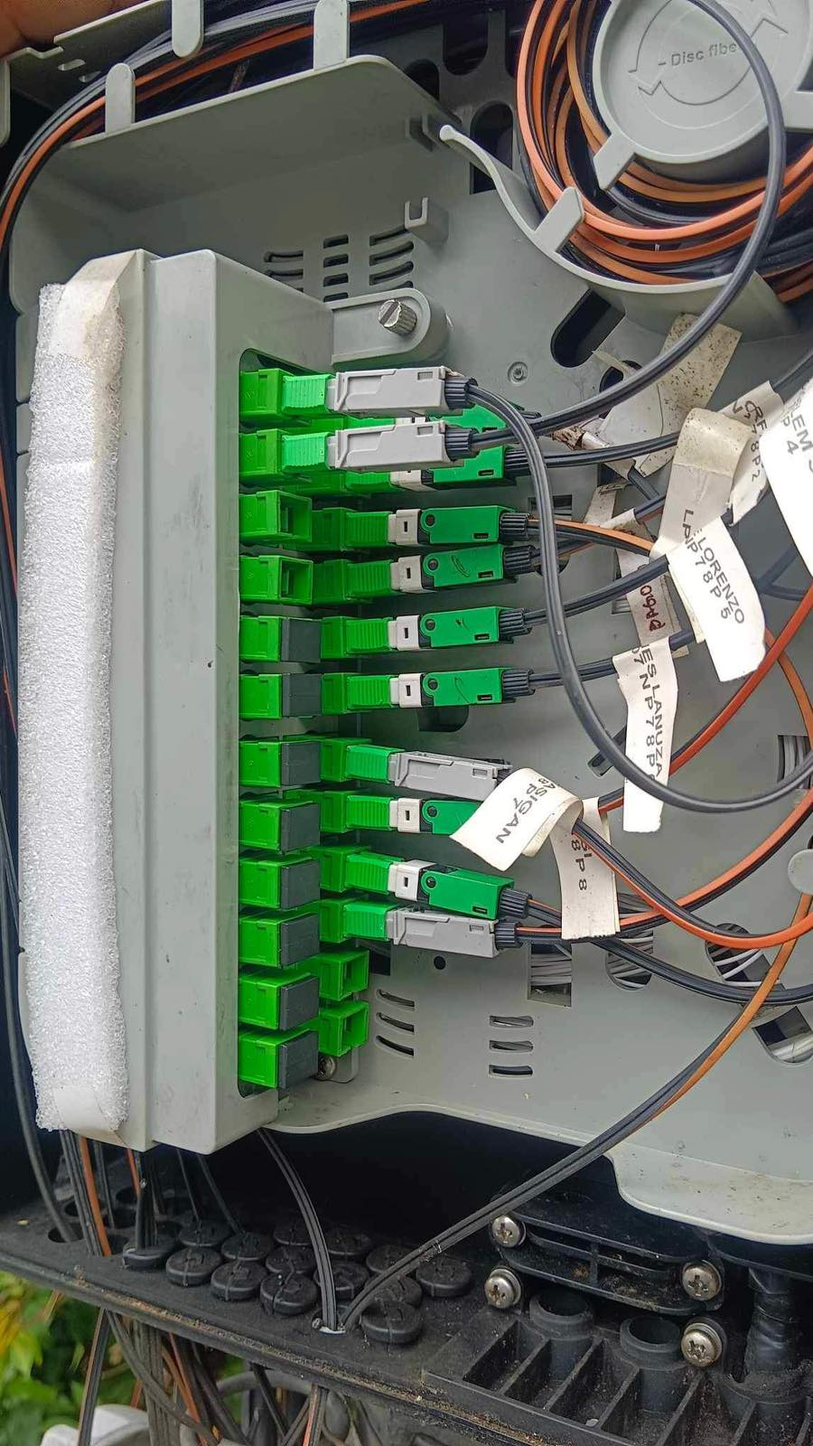no dust cap: (277, 491, 312, 542), (339, 1002, 369, 1057), (278, 556, 312, 604), (339, 950, 369, 1001)
occupied: (339, 847, 542, 930), (344, 736, 525, 814), (339, 897, 533, 964), (346, 538, 550, 601), (332, 393, 555, 450), (274, 423, 497, 473), (343, 601, 540, 657), (331, 440, 546, 490), (280, 367, 483, 417), (342, 504, 539, 555), (345, 669, 544, 712), (346, 795, 531, 839)
vacant: (277, 1029, 319, 1090), (280, 912, 320, 968), (280, 859, 321, 911), (282, 975, 319, 1032), (280, 802, 320, 851), (283, 618, 322, 665), (283, 741, 322, 787), (283, 674, 322, 717)
